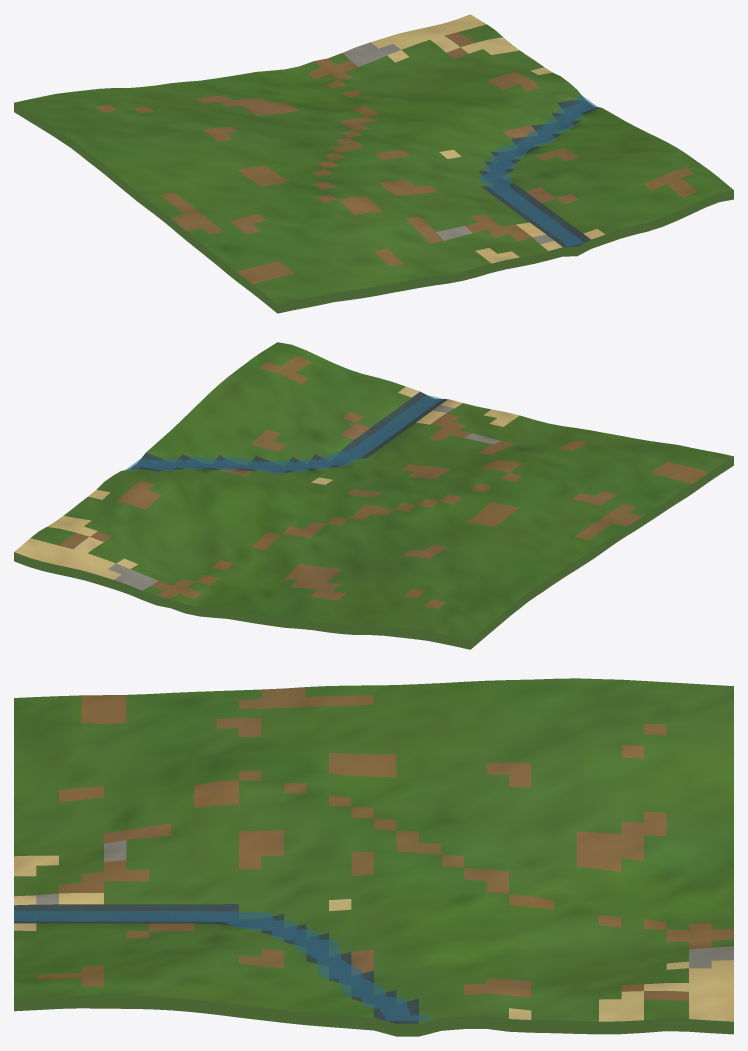
Rendered from chunk_4_5_lod1.glb.
3 views of the same model, one above another, from view 1: azimuth 30°, elevation 25°; view 2: azimuth 150°, elevation 25°; view 3: azimuth 270°, elevation 25° (orthographic). The views are drawn at different scales.
Visible parts, largest first — view 1: Surface_Grass, Surface_Dirt, Skirt, Surface_Water, Water, Surface_Sand, Surface_Gravel; view 2: Surface_Grass, Surface_Dirt, Skirt, Surface_Water, Surface_Sand, Water, Surface_Gravel; view 3: Surface_Grass, Surface_Dirt, Skirt, Surface_Water, Water, Surface_Sand, Surface_Gravel.
Boxes of the visible parts, <box> form: Surface_Grass: <box>14,24,733,304</box>; Surface_Dirt: <box>96,32,696,284</box>; Skirt: <box>14,103,733,313</box>; Surface_Water: <box>478,100,601,247</box>; Water: <box>478,95,597,246</box>; Surface_Sand: <box>371,14,604,263</box>; Surface_Gravel: <box>342,42,553,244</box>; Surface_Grass: <box>31,342,733,640</box>; Surface_Dirt: <box>59,355,708,608</box>; Skirt: <box>14,456,733,649</box>; Surface_Water: <box>130,391,447,472</box>; Surface_Sand: <box>14,386,519,579</box>; Water: <box>125,395,443,474</box>; Surface_Gravel: <box>108,404,500,590</box>; Surface_Grass: <box>14,678,733,1023</box>; Surface_Dirt: <box>36,687,733,1000</box>; Skirt: <box>14,995,733,1036</box>; Surface_Water: <box>14,904,418,1023</box>; Water: <box>14,910,430,1020</box>; Surface_Sand: <box>14,855,733,1021</box>; Surface_Gravel: <box>36,840,733,968</box>.
Bounding box in the file's own units: 256 × 25.87 × 256.
